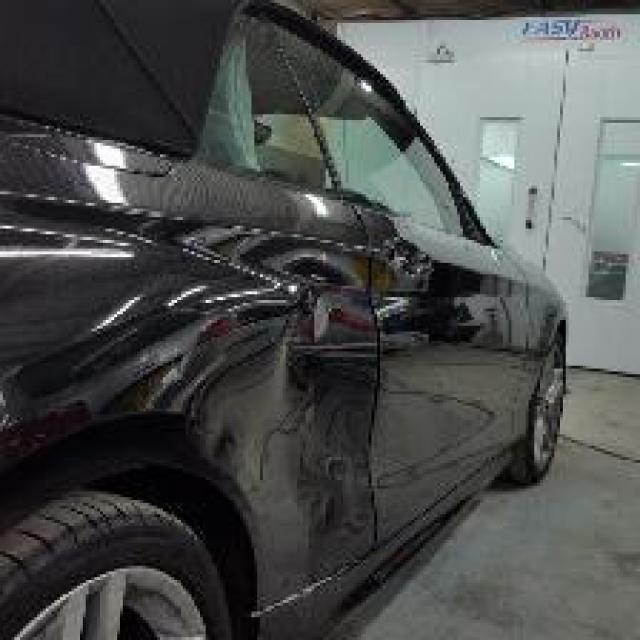damaged: (3, 197, 386, 566)
